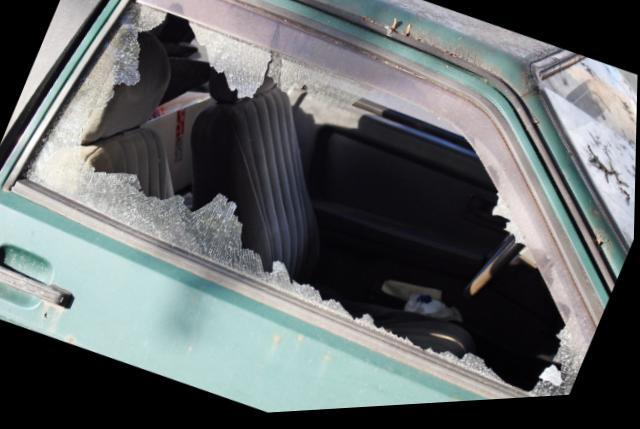glass shatter: (20, 0, 598, 404)
